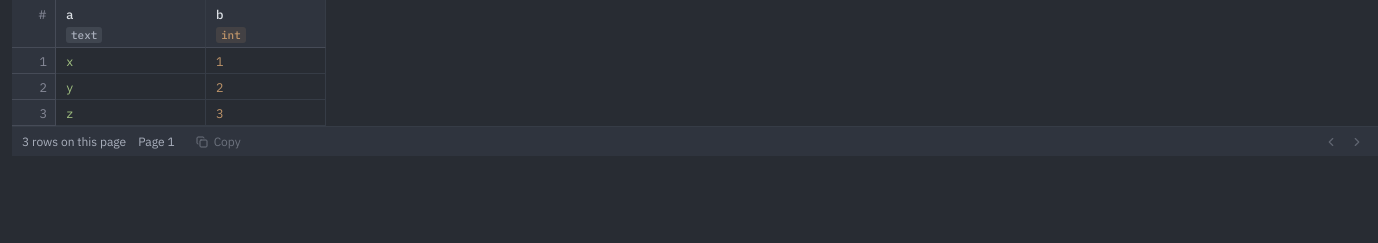
it: ResultsGrid › row menu › steps only through a multi-row selection
Click the 1st text "1": (34, 61) [12,48,56,74]
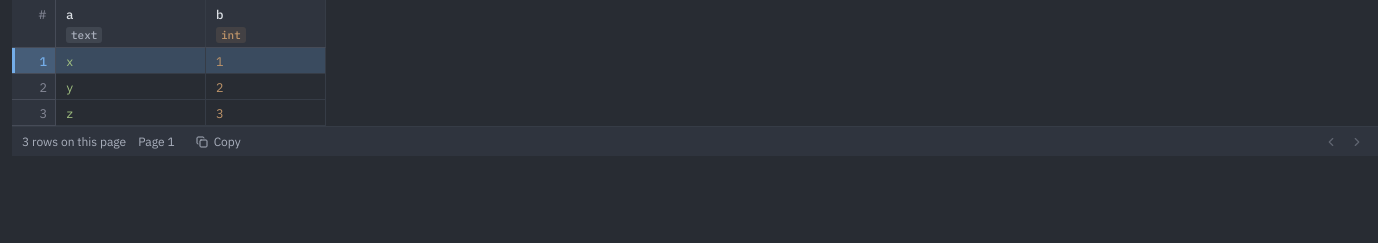
Click the 1st text "2": (34, 87) [12,74,56,100]
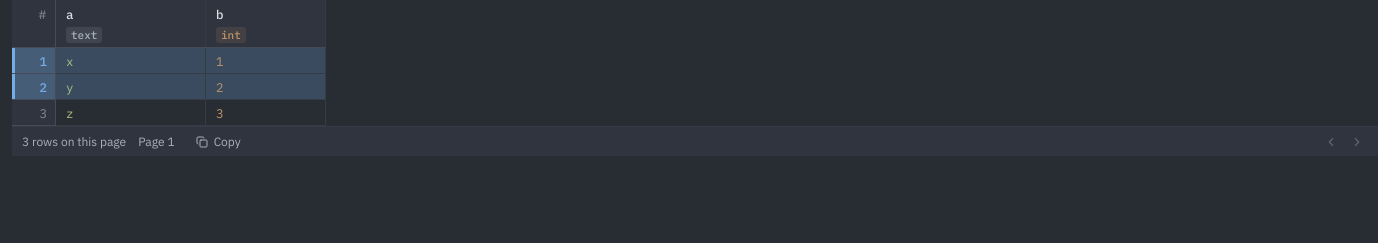
Right-click the text "x": (70, 61) [66,53,74,69]
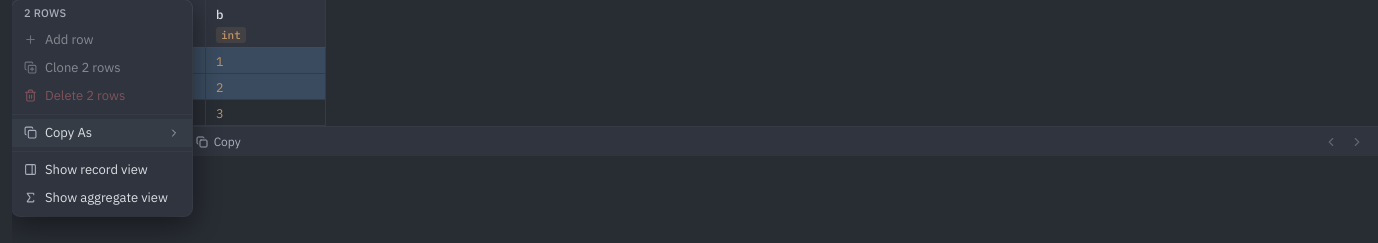
Click the menu item "Show record view": (102, 170) [12,156,192,184]
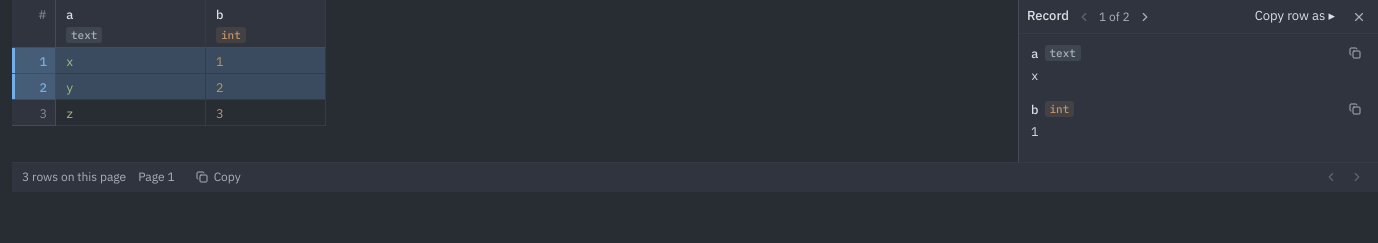
Expected: the text "1 of 2" is shown, [1099,8,1130,24]
Click the button named "Next record": (1145, 16) [1134,6,1156,28]
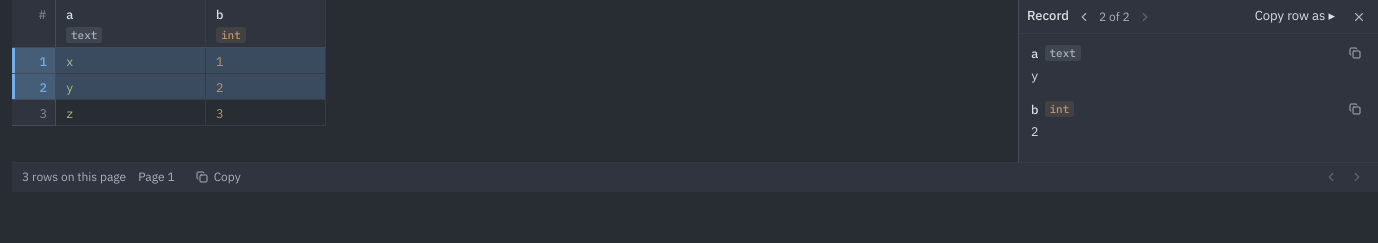
Expected: the text "2 of 2" is shown, [1099,8,1130,24]
Expected: the button named "Next record" is disabled, [1134,6,1156,28]
